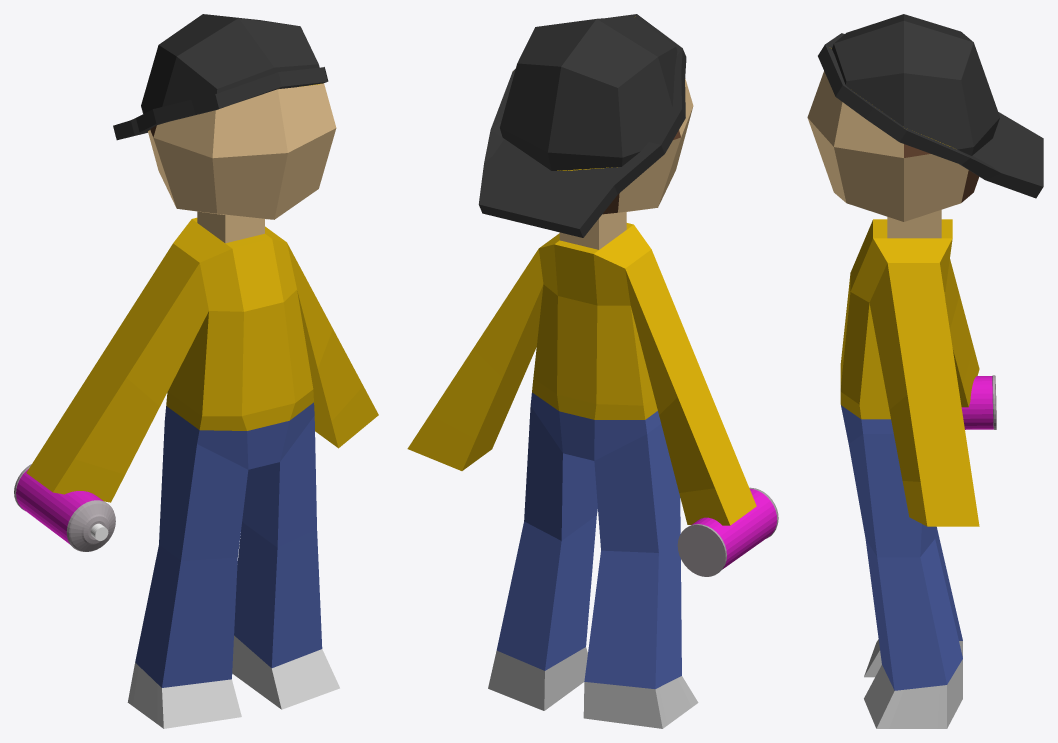
File: newboy3.fbx
3 renders of one model, left to right at view 1: azimuth 30°, elevation 25°; view 2: azimuth 150°, elevation 25°; view 3: azimuth 270°, elevation 25°, orthographic. The views are drawn at different scales.
Visible parts, largest first — view 1: Cube; view 2: Cube; view 3: Cube.
Boxes of the visible parts, x1,y1,x2,y2 form: Cube: [14, 14, 378, 728]; Cube: [407, 14, 778, 728]; Cube: [807, 14, 1043, 728].
Bounding box in the file's own units: 325 × 641 × 206.
